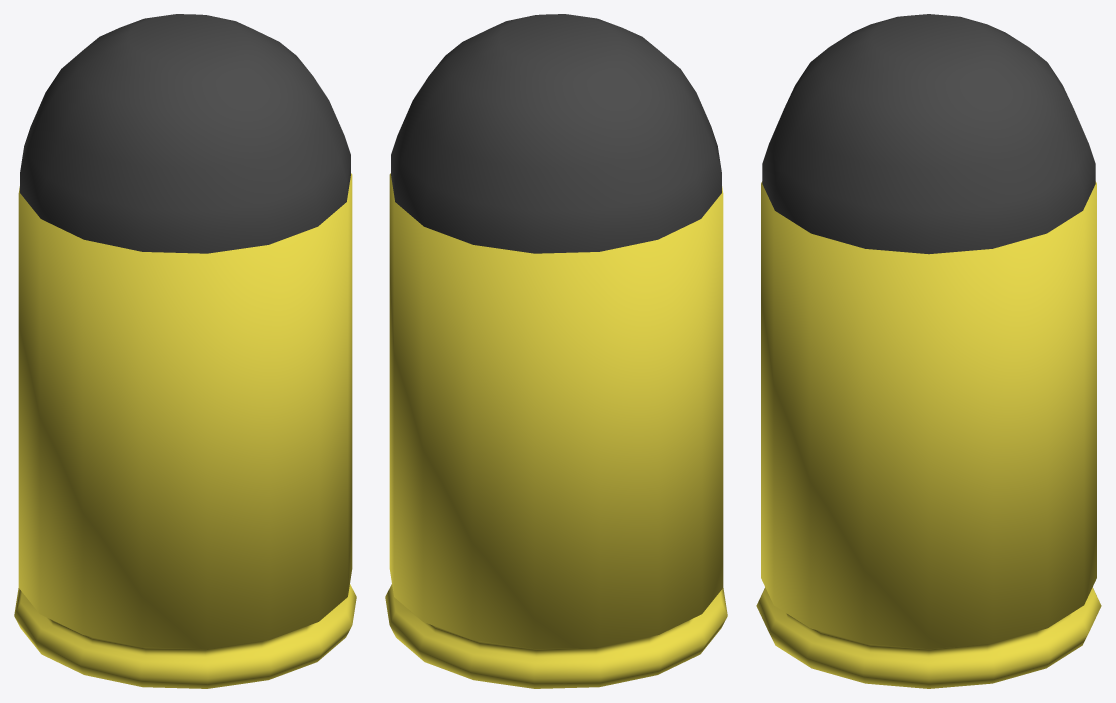
The model's file is proyectil.fbx.
The picture shows the model from 3 angles, left to right: view 1: azimuth 30°, elevation 25°; view 2: azimuth 150°, elevation 25°; view 3: azimuth 270°, elevation 25°; orthographic projection.
Visible parts, largest first — view 1: Circle, Circle.001; view 2: Circle, Circle.001; view 3: Circle, Circle.001.
Boxes of the visible parts, bbox=[...] form: Circle: bbox=[14, 173, 356, 688]; Circle.001: bbox=[20, 14, 350, 253]; Circle: bbox=[385, 173, 727, 688]; Circle.001: bbox=[391, 14, 721, 253]; Circle: bbox=[756, 181, 1101, 688]; Circle.001: bbox=[762, 14, 1095, 254].
Bounding box in the file's own units: 86.66 × 161 × 86.66.
